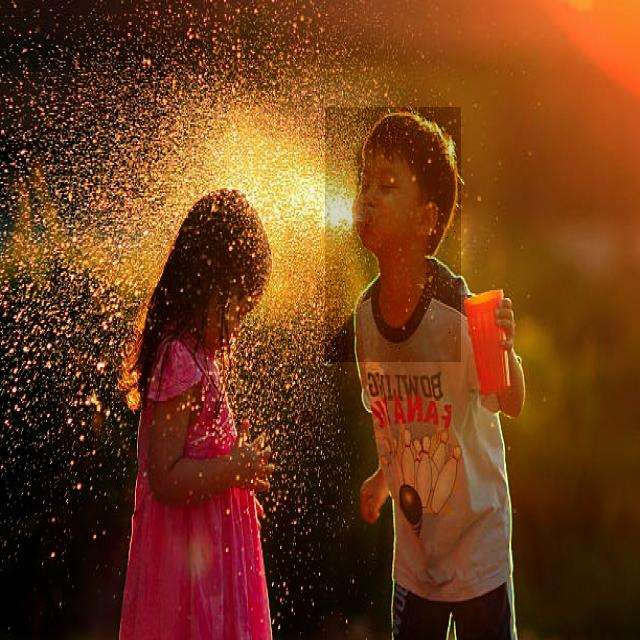Spitting: (325, 107, 461, 362)
